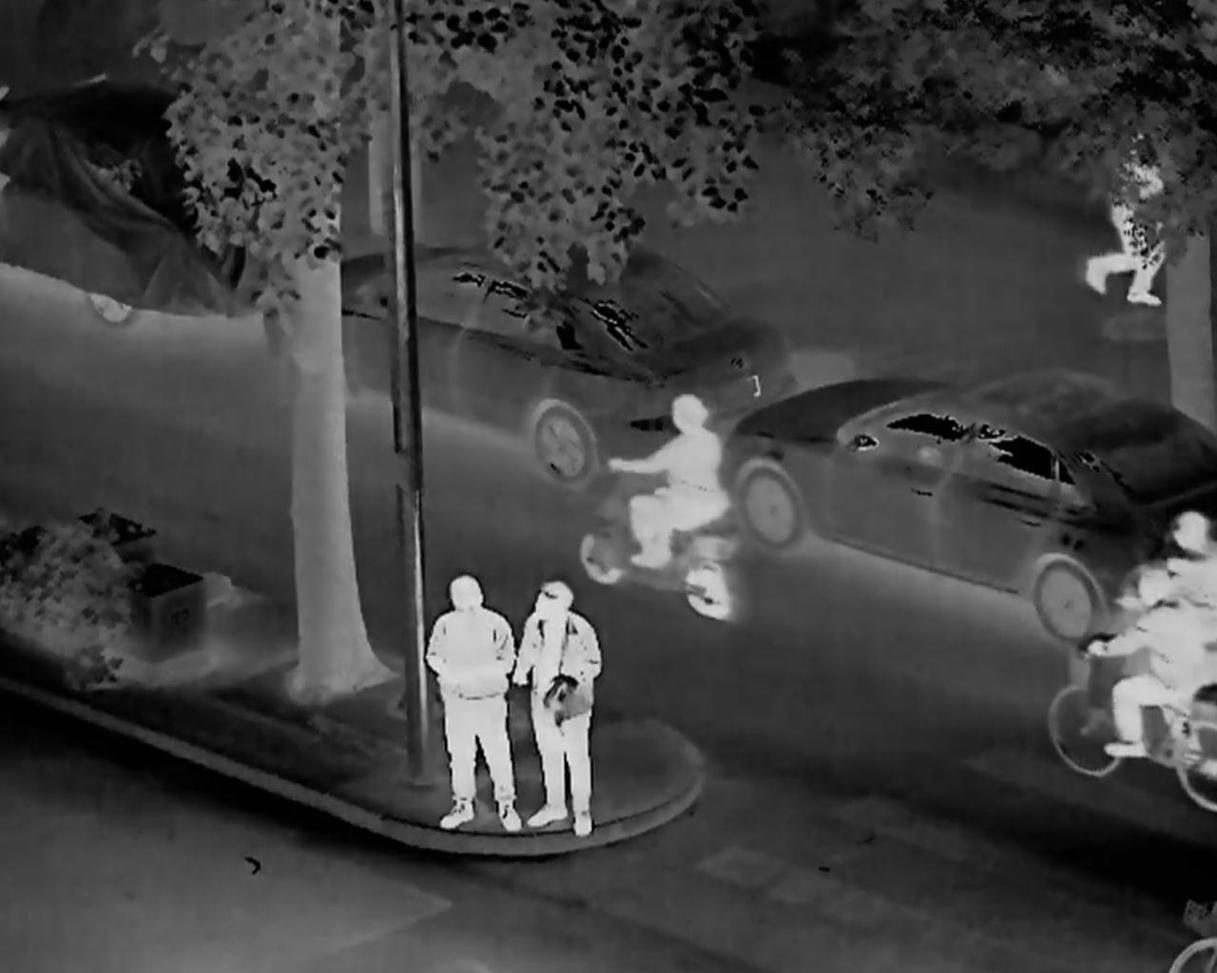person: (597, 392, 726, 619), (419, 573, 525, 825), (505, 581, 601, 849), (1095, 540, 1200, 771), (1081, 106, 1174, 316), (1147, 496, 1217, 666)
